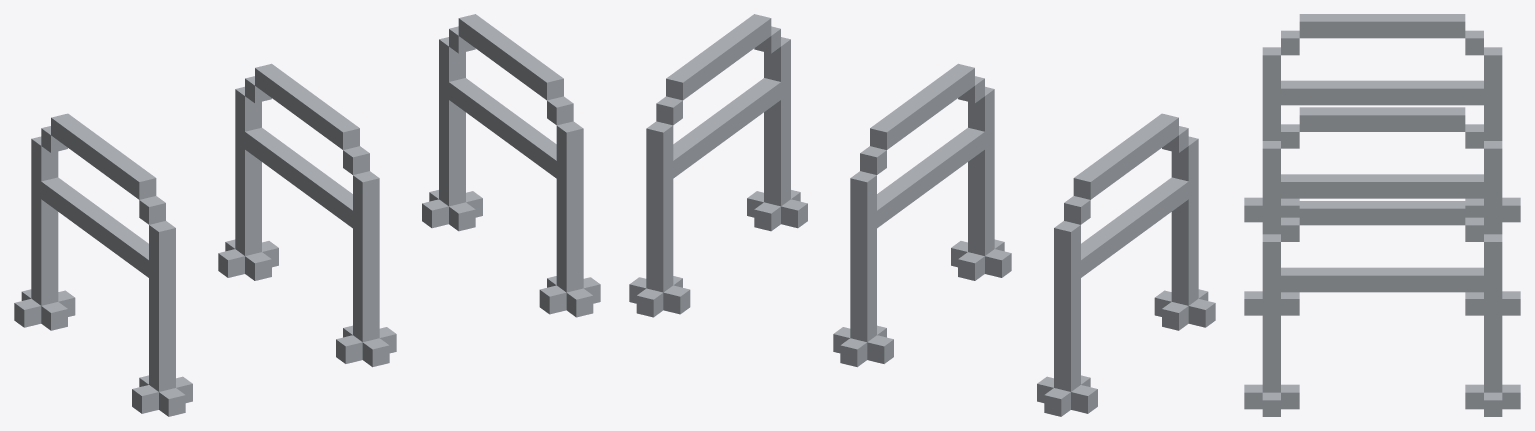
The model's file is Bike_Rack_02.glb.
The picture shows the model from 3 angles, left to right: view 1: azimuth 30°, elevation 25°; view 2: azimuth 150°, elevation 25°; view 3: azimuth 270°, elevation 25°; orthographic projection. The views are drawn at different scales.
Parts seen in each view (by area): view 1: Bike_Rack_02; view 2: Bike_Rack_02; view 3: Bike_Rack_02.
Part boxes in pixels (box(x1,y1,x2,y2)): Bike_Rack_02: box(14, 14, 600, 416); Bike_Rack_02: box(629, 14, 1215, 416); Bike_Rack_02: box(1244, 14, 1520, 416).
Bounding box in the file's own units: 2.7 × 1.2 × 1.5.
Materials: 1 (1 with a texture image).
